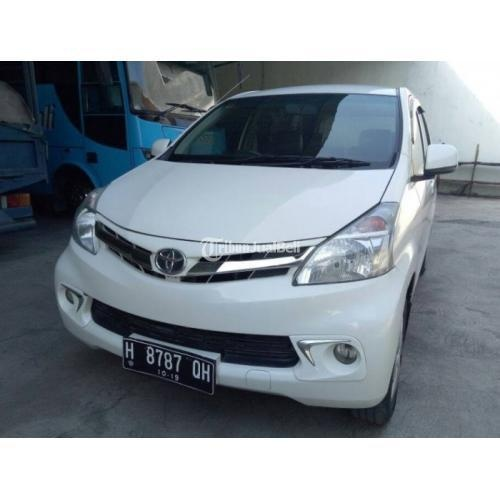plate: (121, 334, 216, 393)
